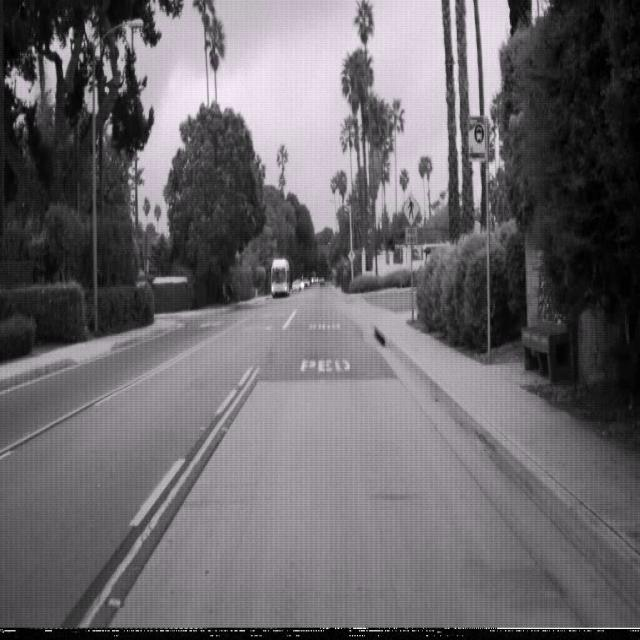pedestrianCrossing: (401, 191, 420, 228)
